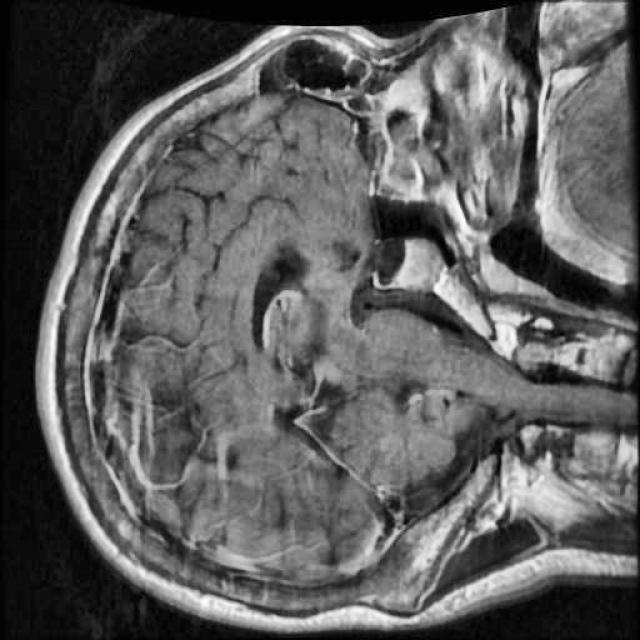Tumor: (390, 221, 454, 305)
